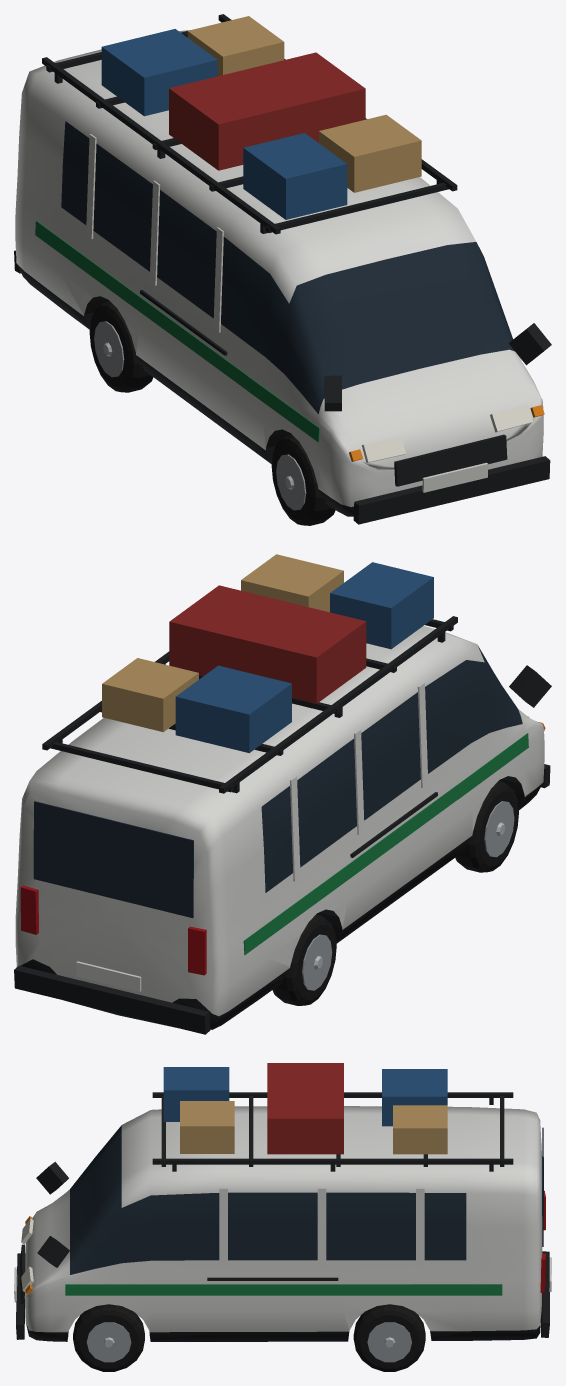
The model's file is minibus.glb.
The picture shows the model from 3 angles, top to bottom: view 1: azimuth 30°, elevation 25°; view 2: azimuth 150°, elevation 25°; view 3: azimuth 270°, elevation 25°; orthographic projection. The views are drawn at different scales.
Parts seen in each view (by area): view 1: body.002, roue-wheel-back-right.002, roue-wheel-front-right.002; view 2: body.002, roue-wheel-back-right.002, roue-wheel-front-right.002; view 3: body.002, roue-wheel-back-left.002, roue-wheel-front-left.002.
Part boxes in pixels (box(x1,y1,x2,y2)): body.002: box(14, 14, 551, 524); roue-wheel-back-right.002: box(89, 301, 153, 392); roue-wheel-front-right.002: box(271, 434, 335, 525); body.002: box(14, 554, 551, 1034); roue-wheel-back-right.002: box(272, 914, 336, 1005); roue-wheel-front-right.002: box(455, 781, 518, 872); body.002: box(14, 1063, 551, 1341); roue-wheel-back-left.002: box(353, 1304, 425, 1371); roue-wheel-front-left.002: box(73, 1304, 144, 1371).
Bounding box in the file's own units: 1.86 × 2.47 × 4.93.
